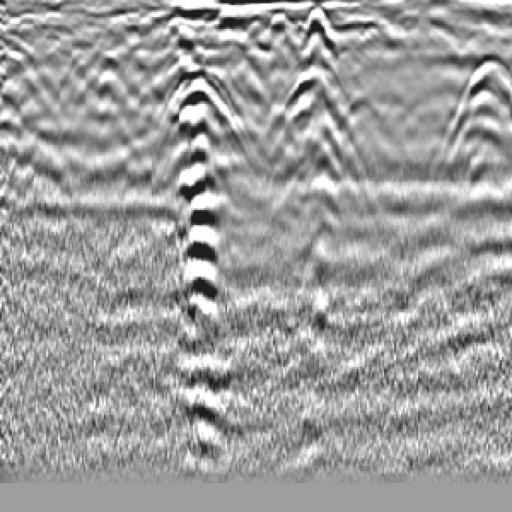metalic: (254, 8, 381, 233)
nonmetalic: (151, 25, 249, 216), (405, 45, 512, 197)
